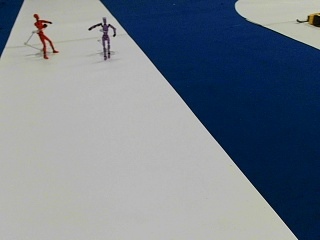pedestrian: (87, 17, 116, 57), (32, 13, 57, 58)
